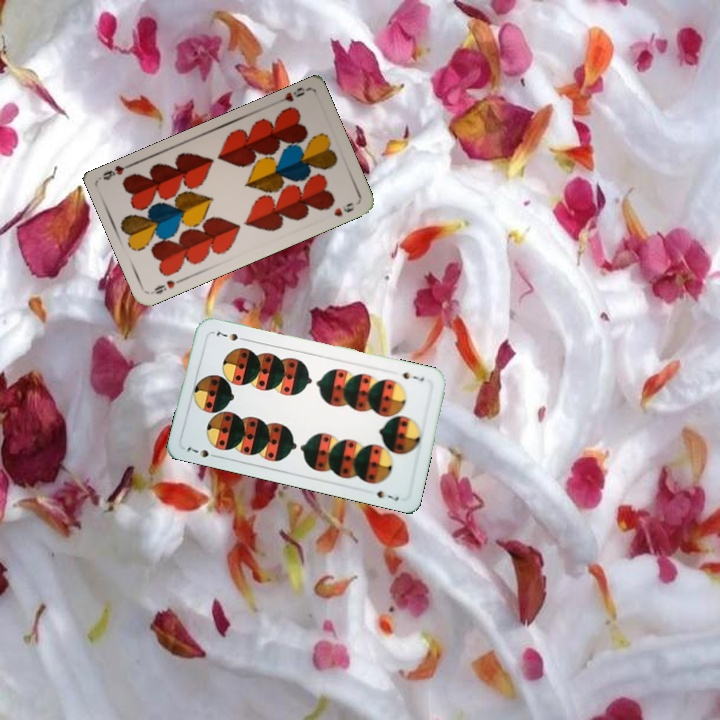H9: (150, 274, 186, 297), (280, 84, 307, 104)
S7: (183, 443, 221, 460), (396, 368, 427, 384)
